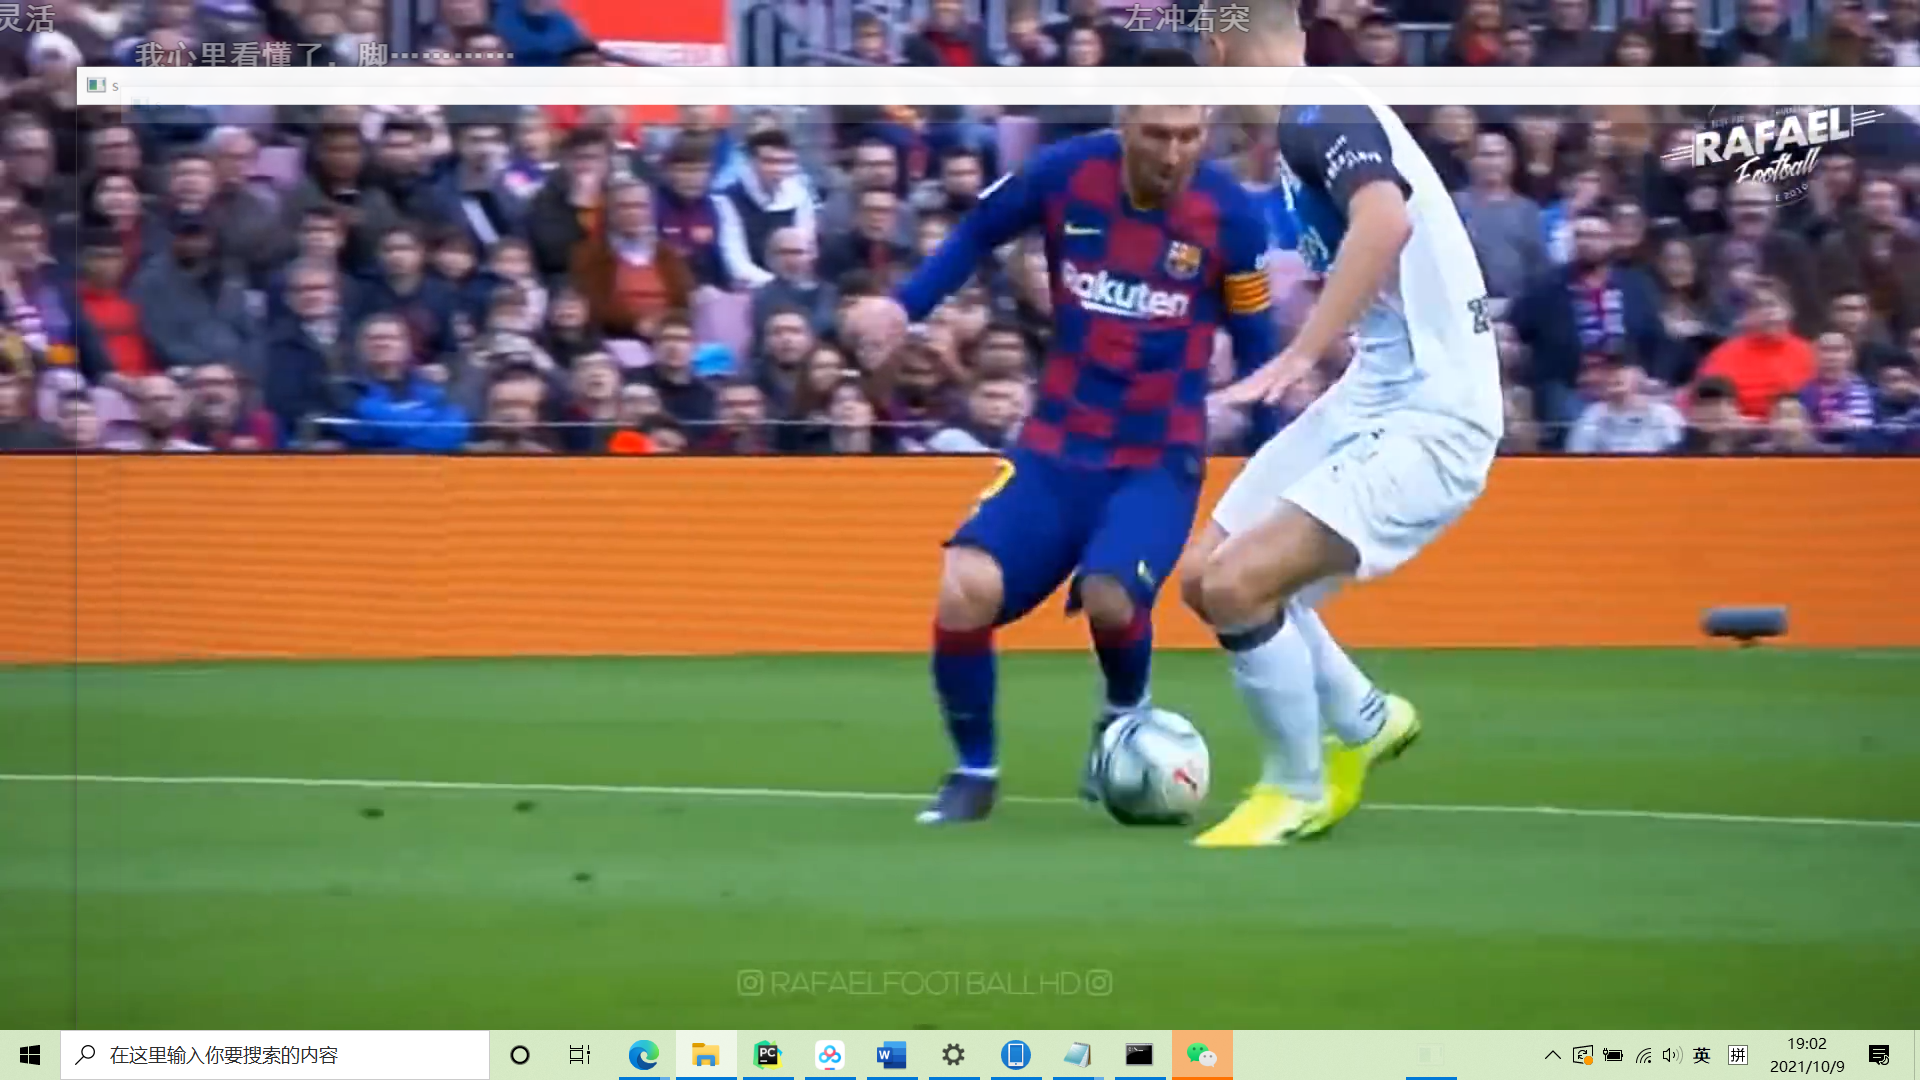ft: (1095, 702, 1215, 825)
